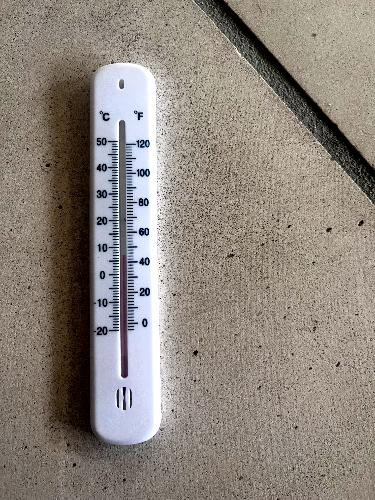thermo: (84, 64, 160, 439)
